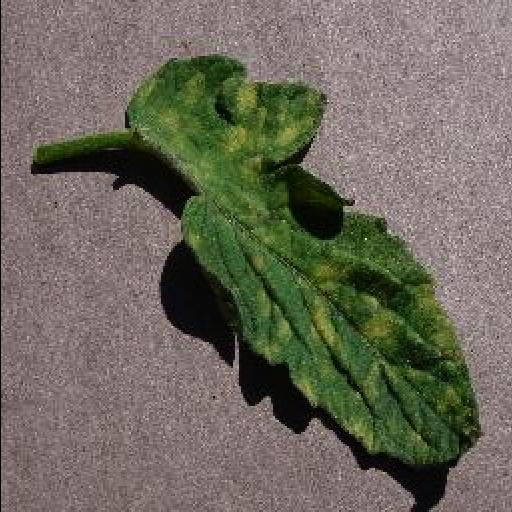disease_tomato: (127, 56, 481, 466)
